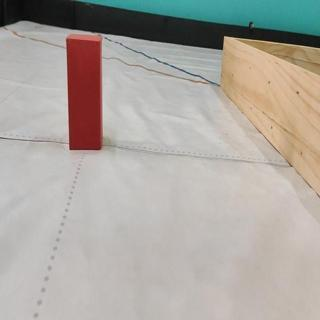redbox: (65, 31, 102, 152)
